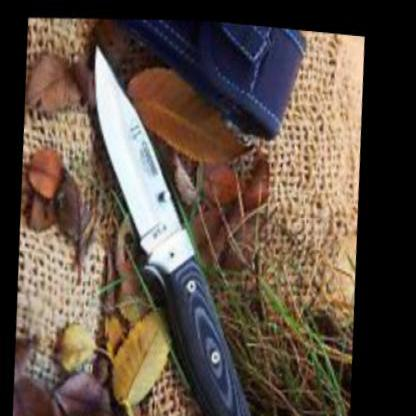knife: (76, 23, 226, 295)
